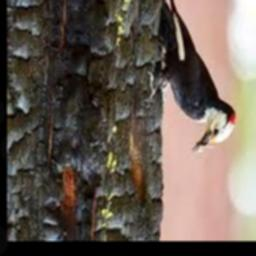Woodpecker: (145, 0, 234, 156)
